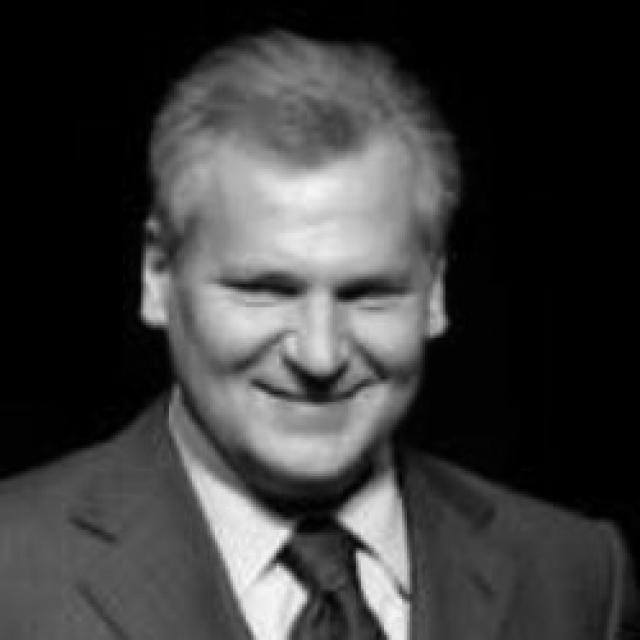real: (151, 40, 452, 502), (212, 258, 404, 312)
